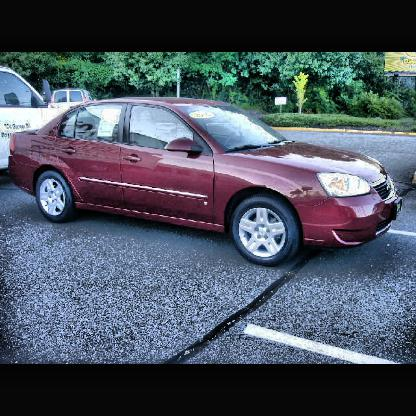Chevrolet Malibu Sedan 2007: (9, 94, 406, 269)
